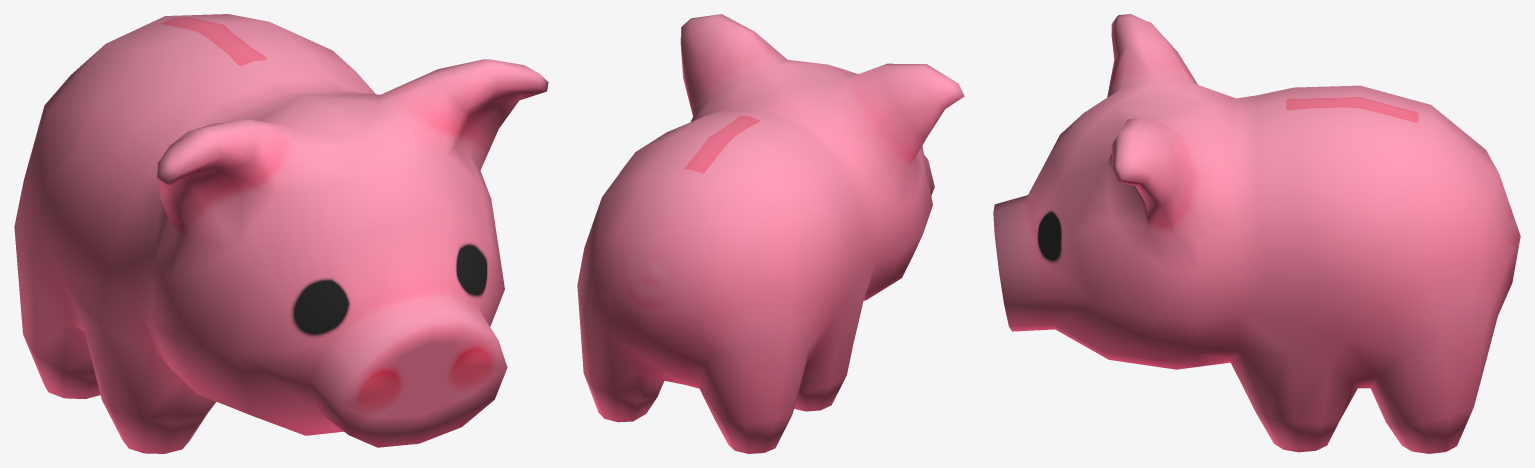
File: PiggyBank.FBX
The picture shows the model from 3 angles, left to right: view 1: azimuth 30°, elevation 25°; view 2: azimuth 150°, elevation 25°; view 3: azimuth 270°, elevation 25°; orthographic projection. The views are drawn at different scales.
Parts seen in each view (by area): view 1: PiggyBank; view 2: PiggyBank; view 3: PiggyBank.
Part boxes in pixels (x1,y1,x2,y2): PiggyBank: (14,14,548,453); PiggyBank: (577,14,964,453); PiggyBank: (993,14,1520,453).
Size of the model in its own units: 85.83 by 83.9 by 121.
